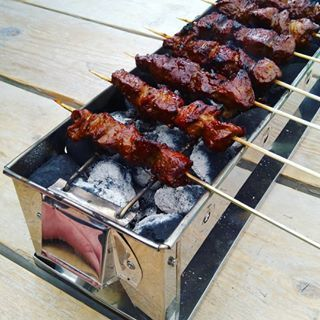sate: (65, 106, 320, 249), (93, 64, 318, 178), (124, 14, 319, 133)
